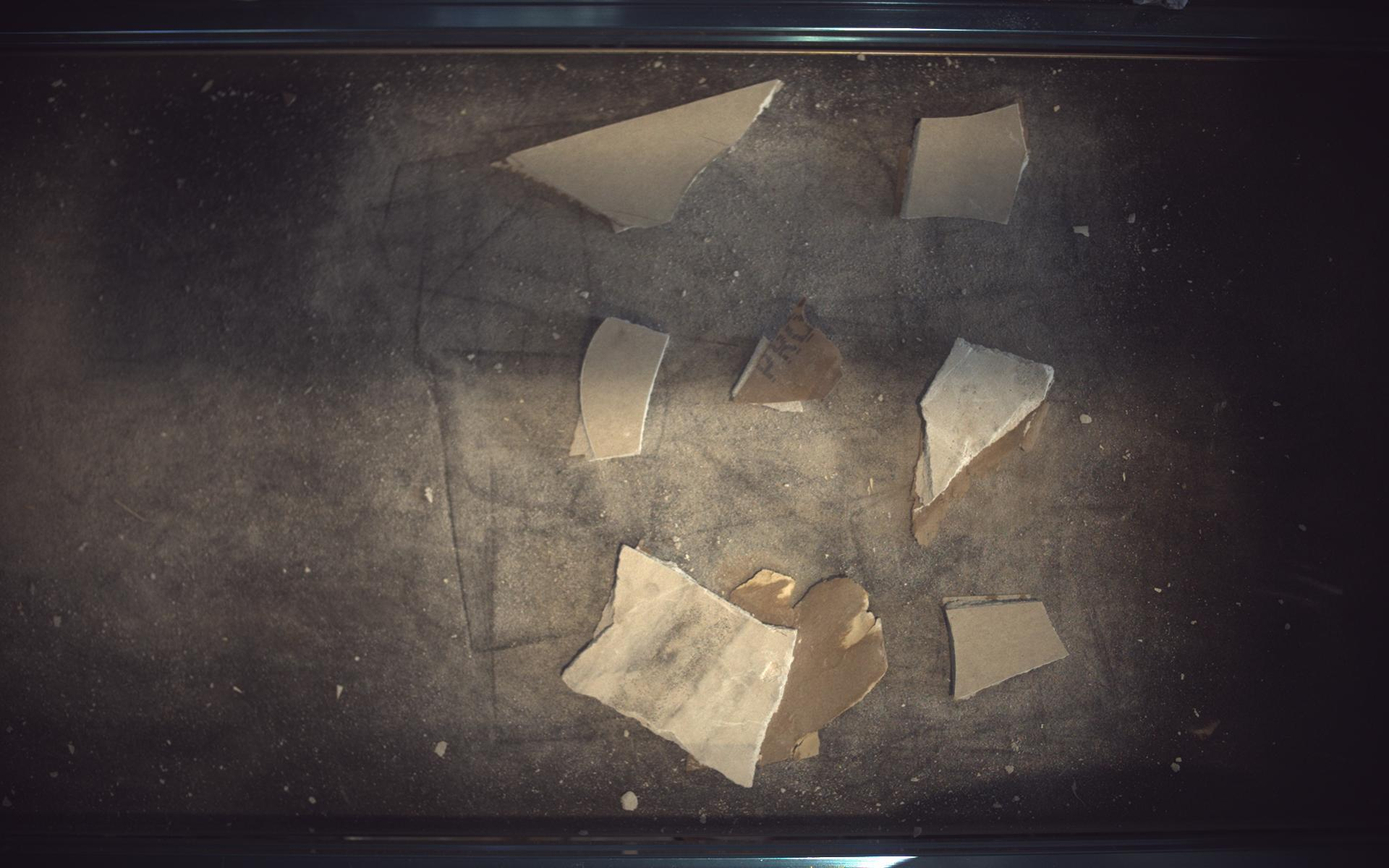gypsum_board: (564, 547, 889, 788), (493, 78, 783, 231), (914, 338, 1057, 548), (902, 103, 1031, 223), (570, 317, 670, 460), (945, 595, 1070, 702), (732, 299, 843, 411)
